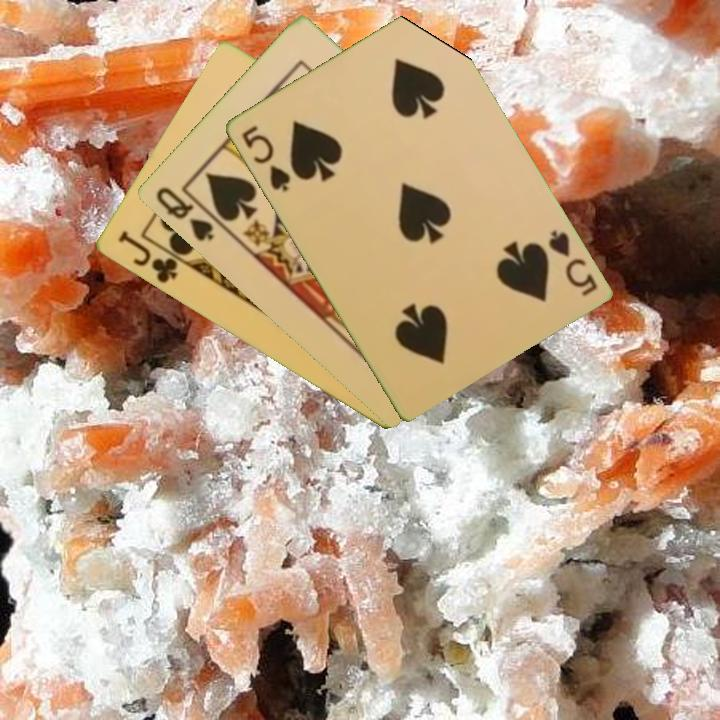5s: (544, 226, 600, 299), (237, 122, 293, 194)
Jc: (113, 227, 180, 287)
Qs: (151, 183, 216, 245)
